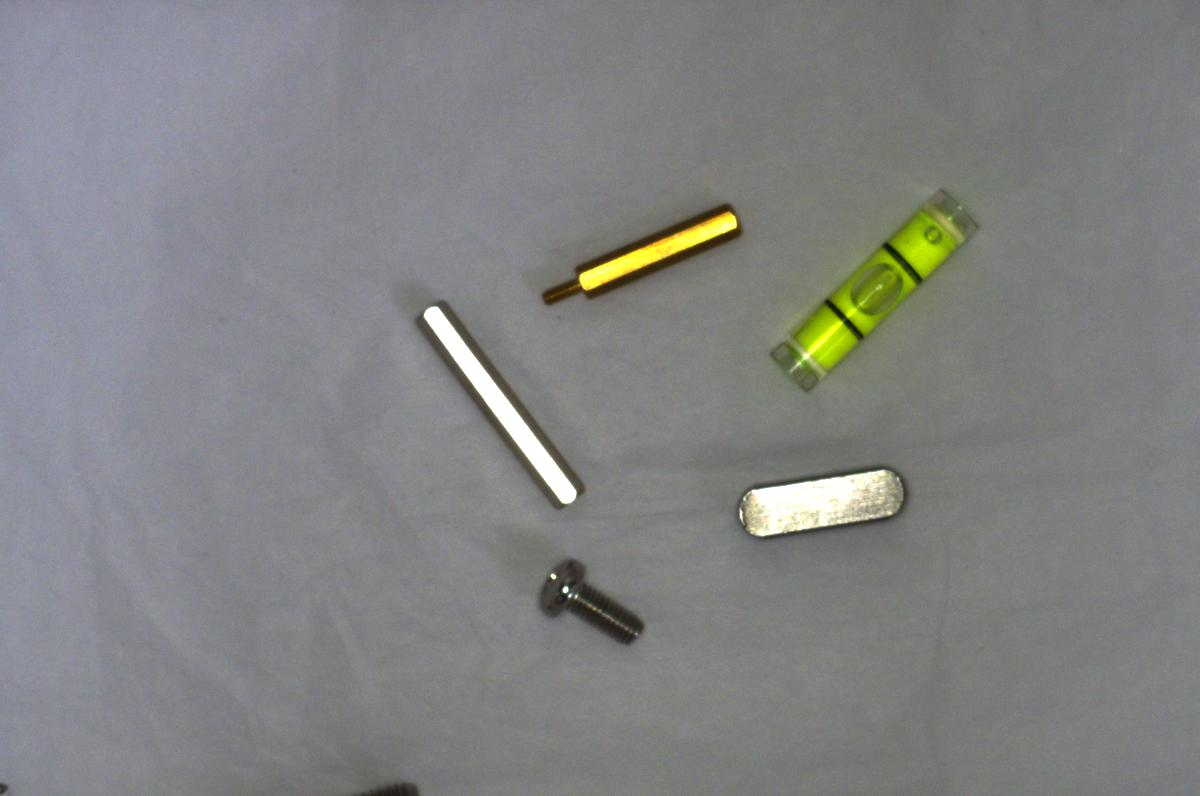Double hexagonal column: (410, 296, 586, 516)
Hexagon pillar: (540, 199, 748, 308)
Horizontal bubble: (761, 175, 986, 393)
Keybar: (730, 460, 908, 538)
Round head screw: (534, 549, 644, 648)
